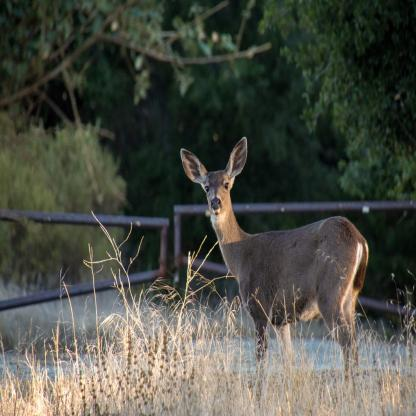Deer: (179, 137, 370, 402)
